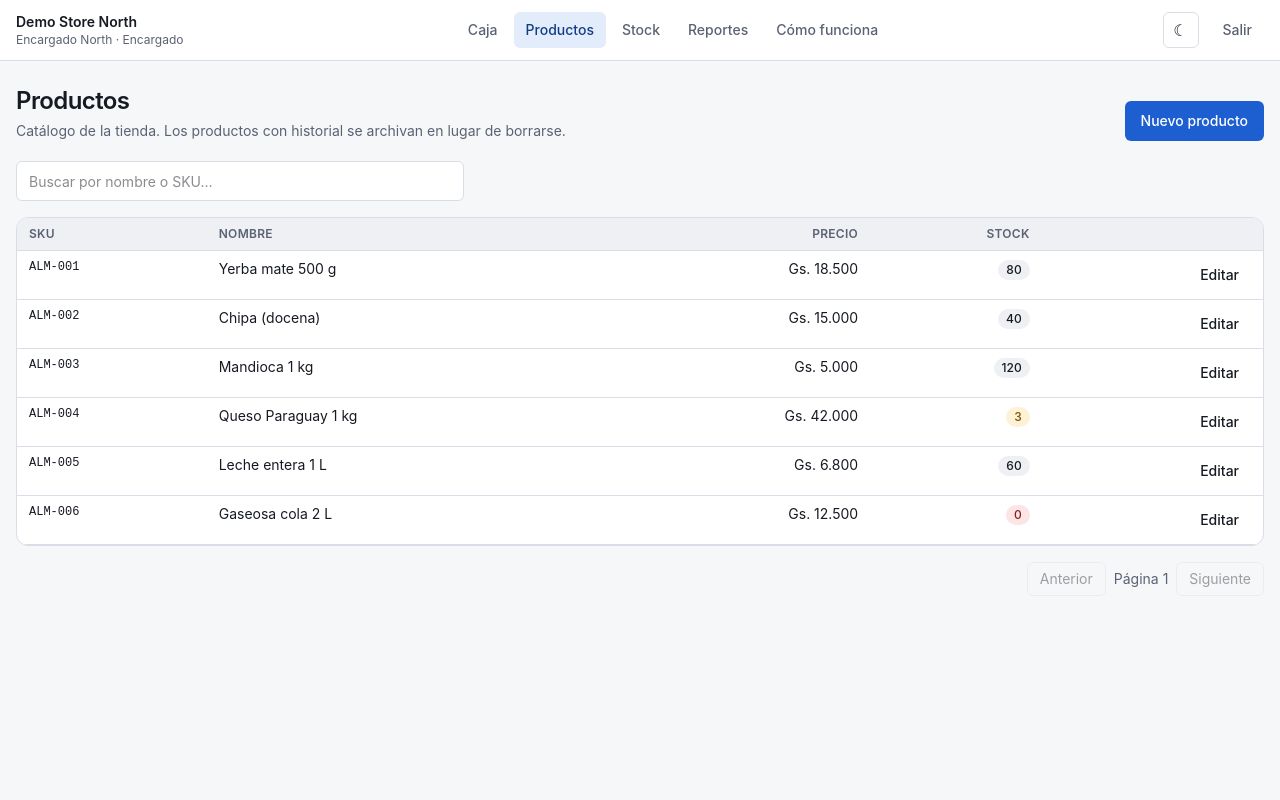
Test: products page › edits a product
Expected: the text "Yerba mate 500 g" is shown, [207, 250, 622, 300]
Click the button with aria-label "Editar Mandioca 1 kg" at (1220, 373), box [1188, 357, 1251, 389]
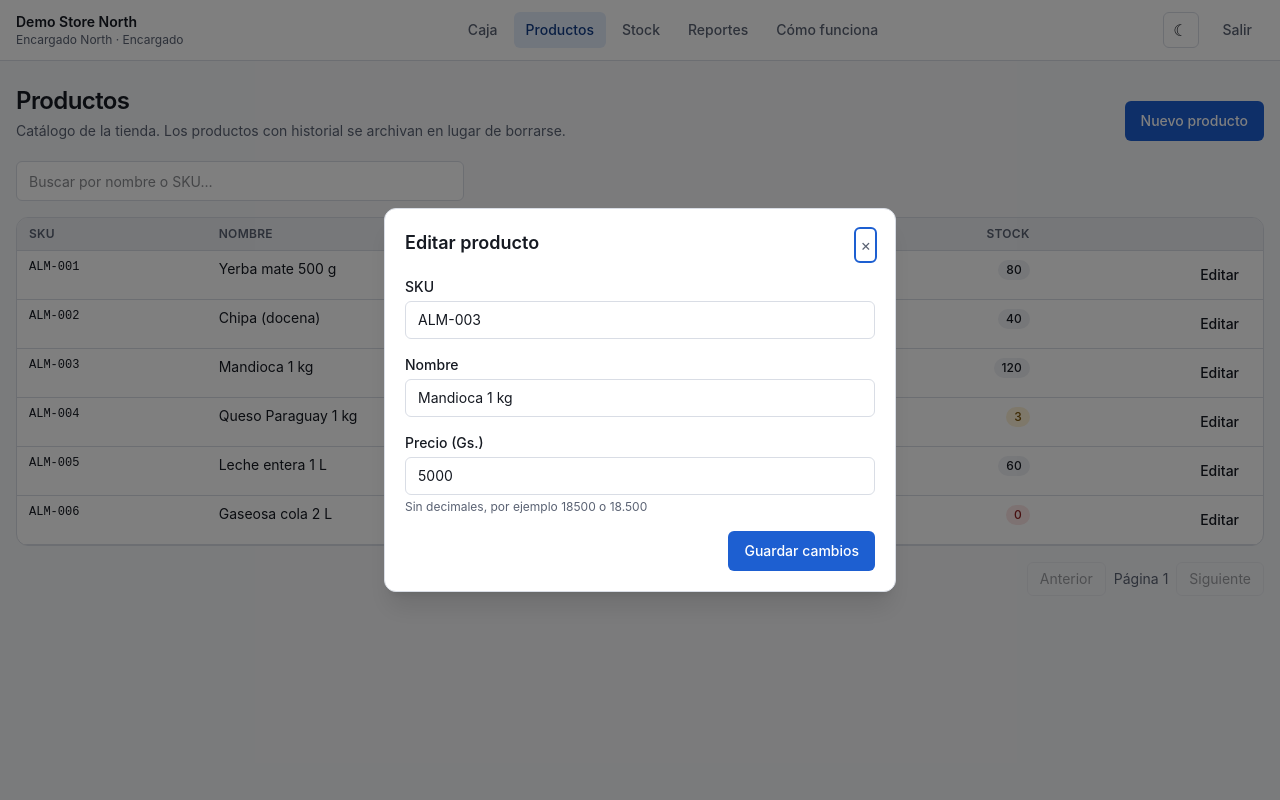
Expected: the field labelled "Precio (Gs.)" holds "5000"
Replace the text in the field labelled "Precio (Gs.)" with "5500" at (640, 476), box [405, 457, 875, 495]
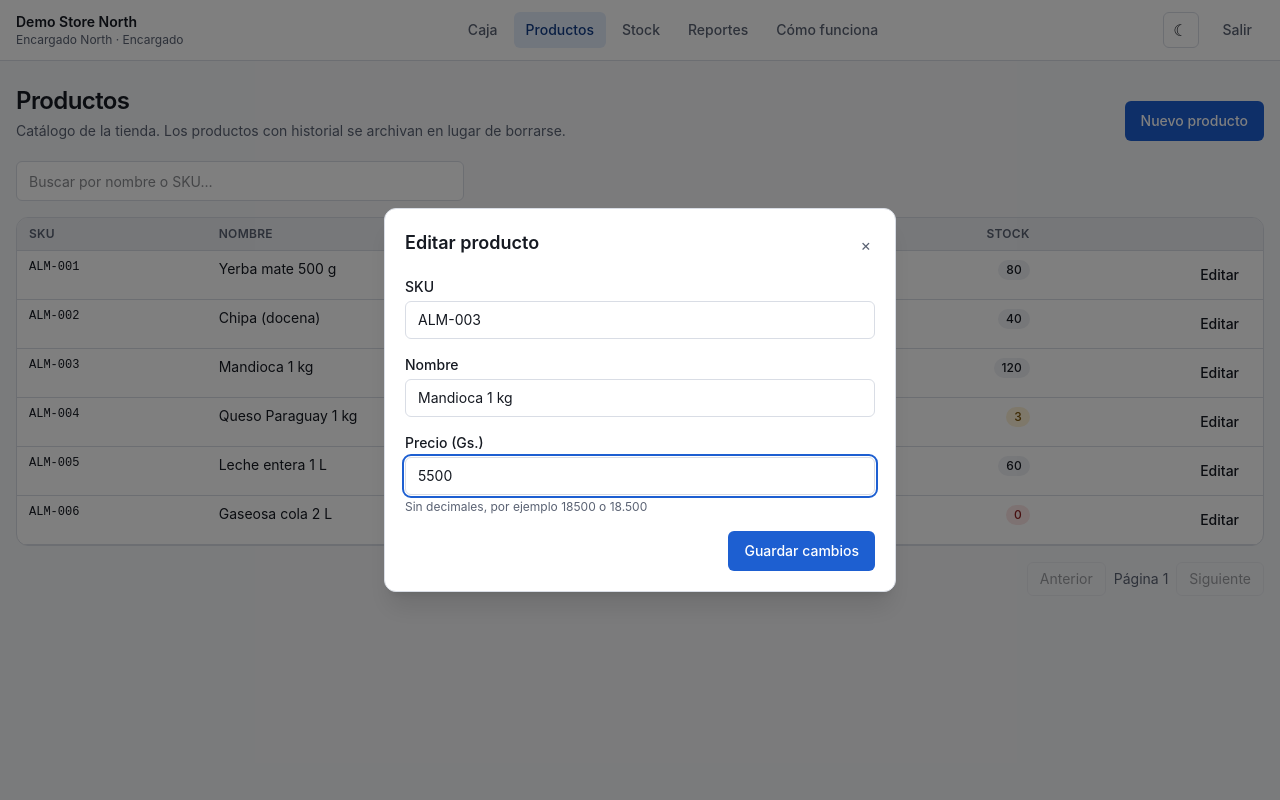
Click the button "Guardar cambios" at (802, 551), box [728, 531, 875, 571]
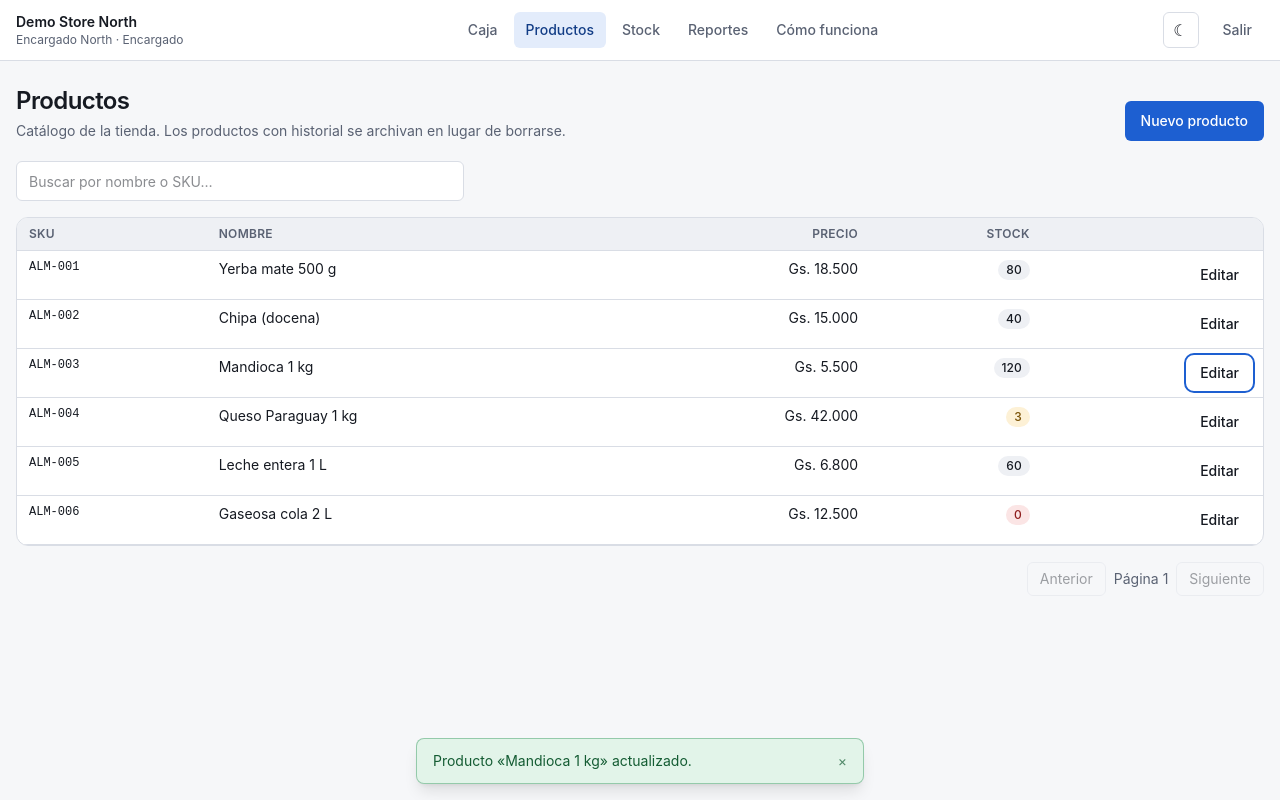
Expected: the text "Producto «Mandioca 1 kg» actualizado." is shown, [433, 752, 692, 769]
